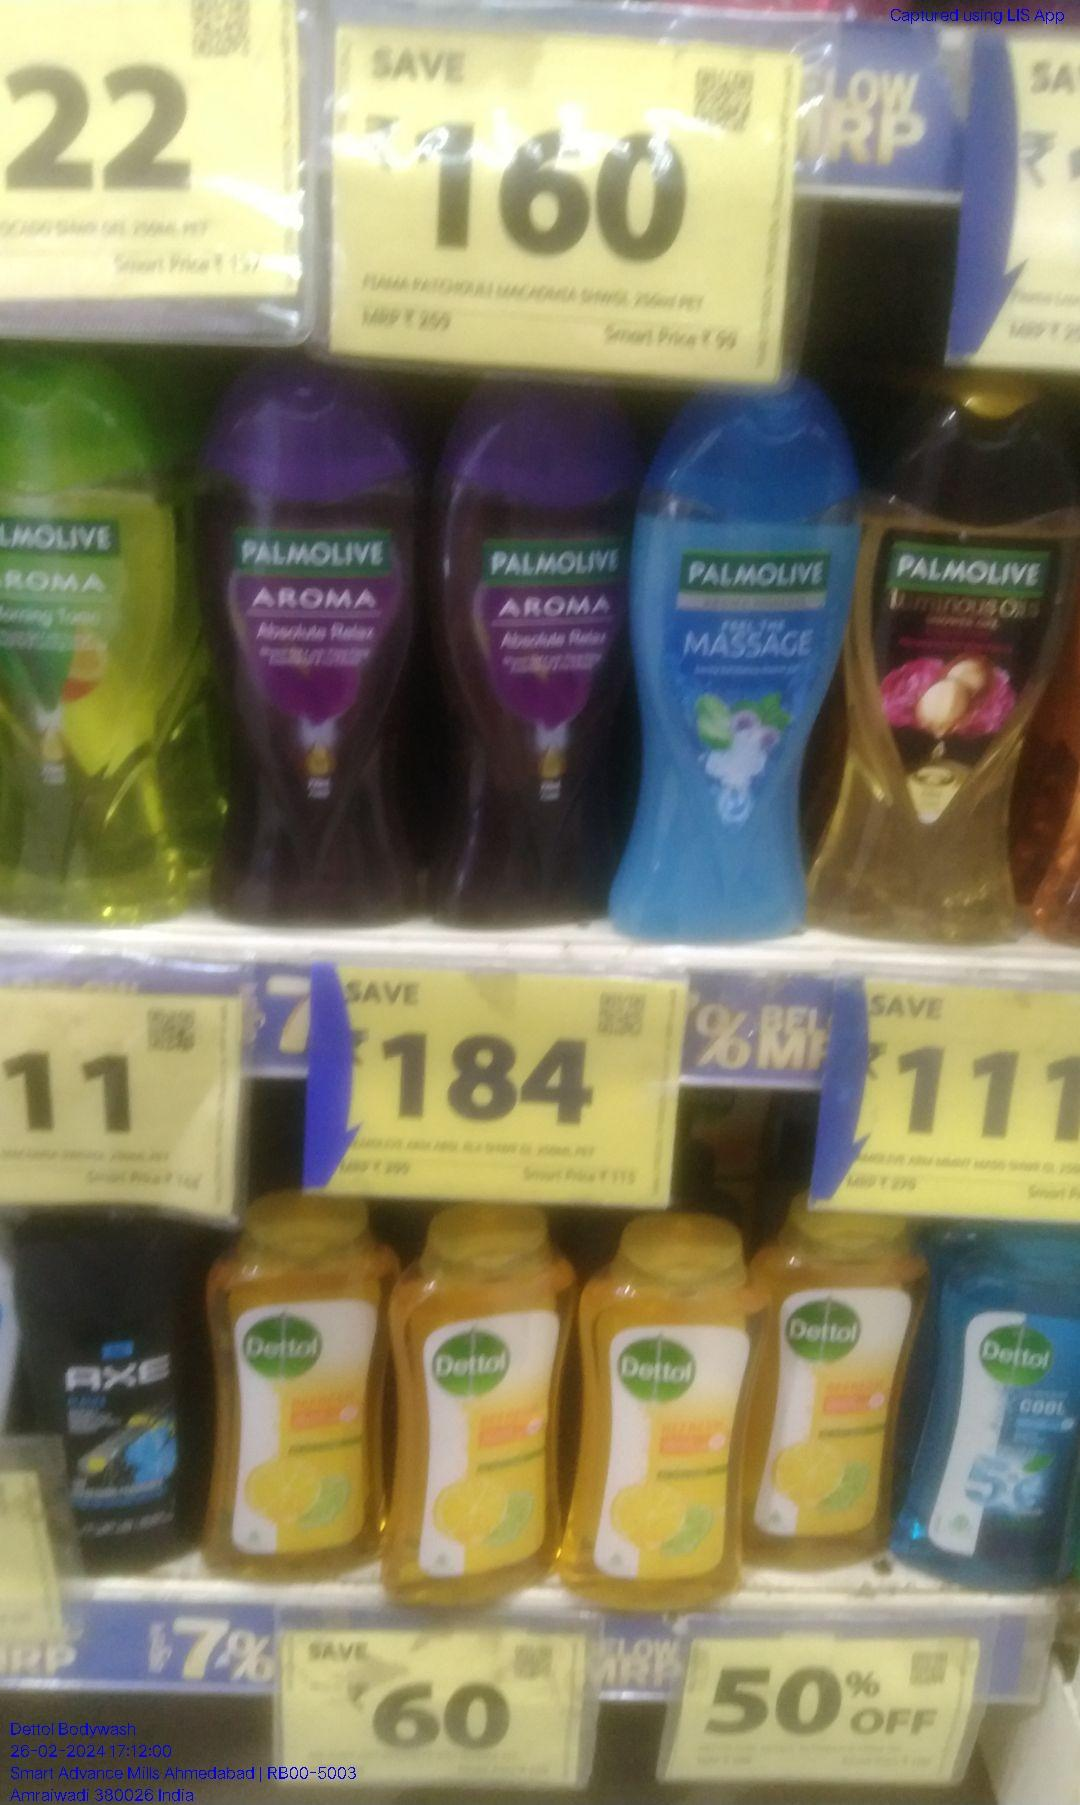Dettol_Bodywash_Refresh: (390, 1216, 553, 1608), (588, 1251, 762, 1599), (217, 1220, 374, 1576), (778, 1194, 909, 1579)
Liril_Cooling_Mint_Body_Wash_250ML: (950, 1224, 1080, 1589)
Palmolive_Aroma_Moments_Feel_The_Massage_Shower_Gel_250ML: (624, 391, 849, 928)
Palmolive_Aroma_Morning_Tonic_Shower_Gel_250ML: (4, 361, 193, 919)
Palmolive_Aroma_Relax_250ML: (230, 393, 432, 919), (441, 387, 611, 926)
Palmolive_Luminous_Oils_Invigorating_Macadamia_Oil_With_Peony_250ML: (851, 384, 1080, 933)
